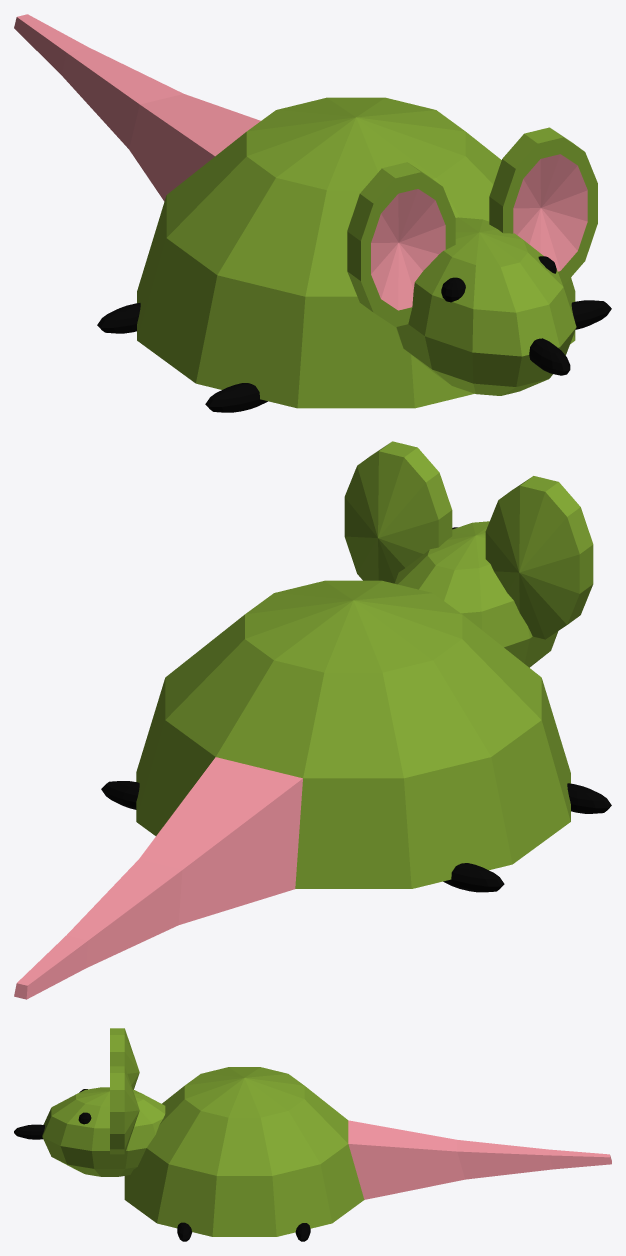
The model's file is GreenRat.gltf.
3 renders of one model, top to bottom at view 1: azimuth 30°, elevation 25°; view 2: azimuth 150°, elevation 25°; view 3: azimuth 270°, elevation 25°, orthographic. The views are drawn at different scales.
Parts seen in each view (by area): view 1: sphere (×6), tube (×2); view 2: sphere (×5), tube (×2); view 3: sphere (×3), tube (×2).
Boxes of the visible parts, bbox=[...] form: sphere (×6): bbox=[14, 14, 611, 412]; tube (×2): bbox=[347, 127, 597, 327]; sphere (×5): bbox=[14, 521, 611, 999]; tube (×2): bbox=[344, 441, 593, 639]; sphere (×3): bbox=[14, 1067, 611, 1236]; tube (×2): bbox=[110, 1028, 139, 1154].
Size of the model in its own units: 1.06 by 0.6563 by 2.5.
3 materials, 3 textured.
